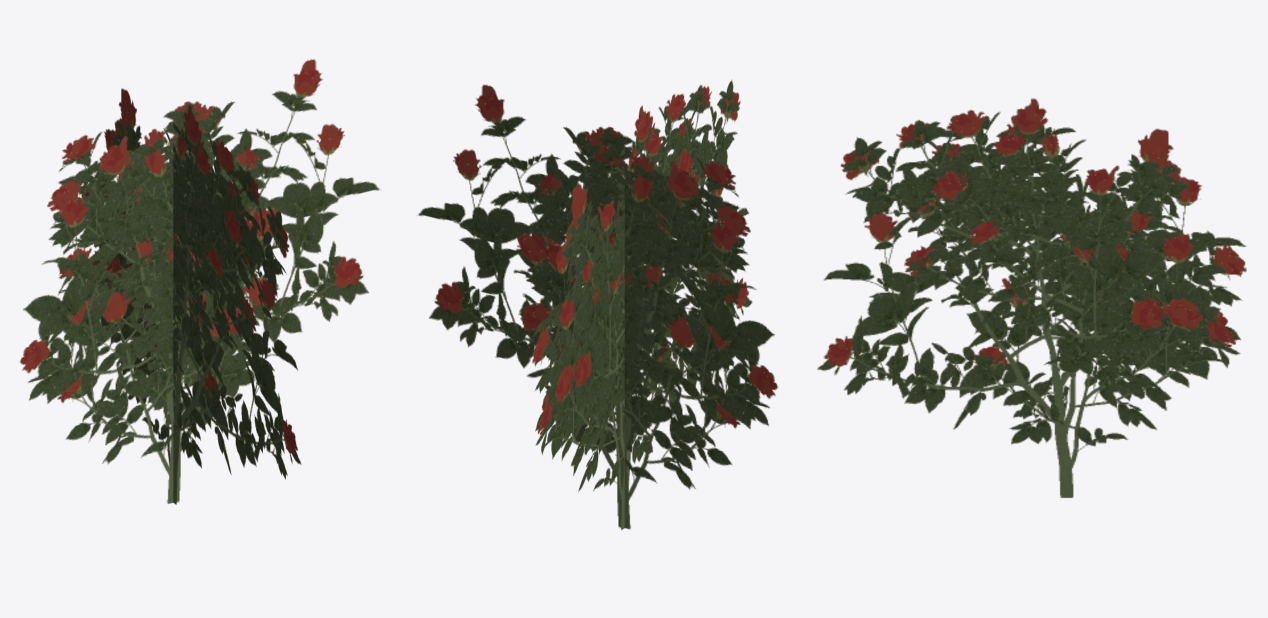
Rendered from RosaGrandiflora.glb.
3 views of the same model, side by side, from view 1: azimuth 30°, elevation 25°; view 2: azimuth 150°, elevation 25°; view 3: azimuth 270°, elevation 25° (orthographic). The views are drawn at different scales.
Parts seen in each view (by area): view 1: mesh__mat_billboard_6; view 2: mesh__mat_billboard_6; view 3: mesh__mat_billboard_6.
Boxes of the visible parts, x1,y1,x2,y2 form: mesh__mat_billboard_6: (20, 59, 379, 504); mesh__mat_billboard_6: (417, 80, 777, 530); mesh__mat_billboard_6: (817, 98, 1246, 497).
Bounding box in the file's own units: 1.14 × 1.25 × 1.21.
Materials: 1 (1 with a texture image).
